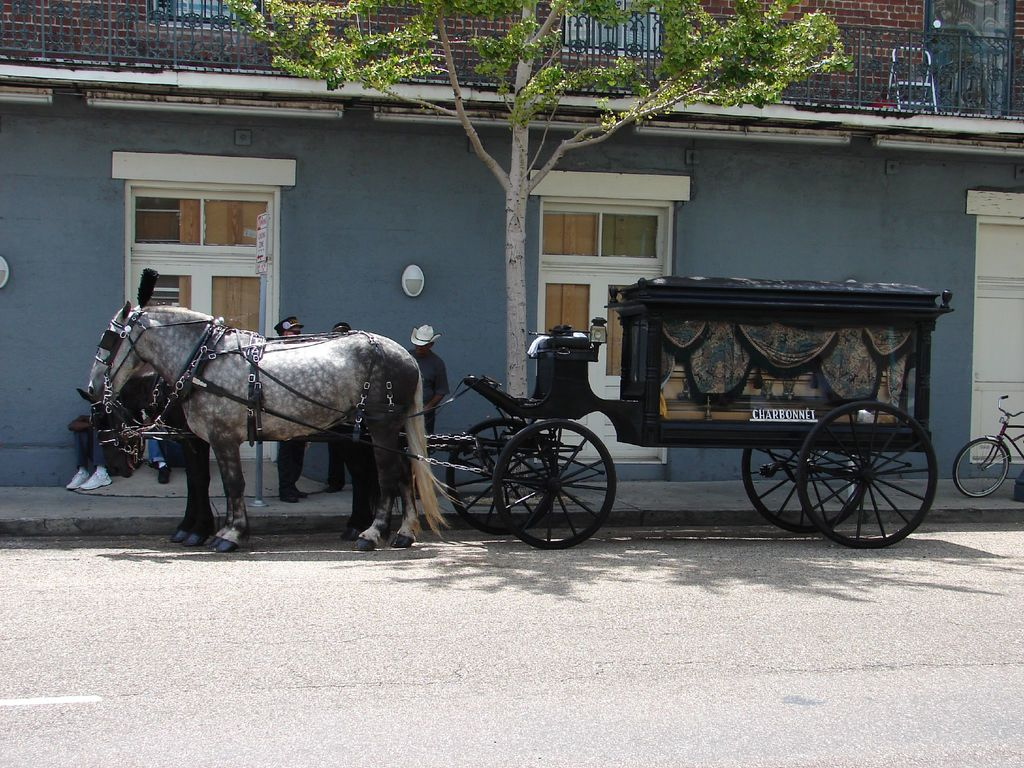Person: (66, 316, 449, 502), (398, 324, 450, 499)
